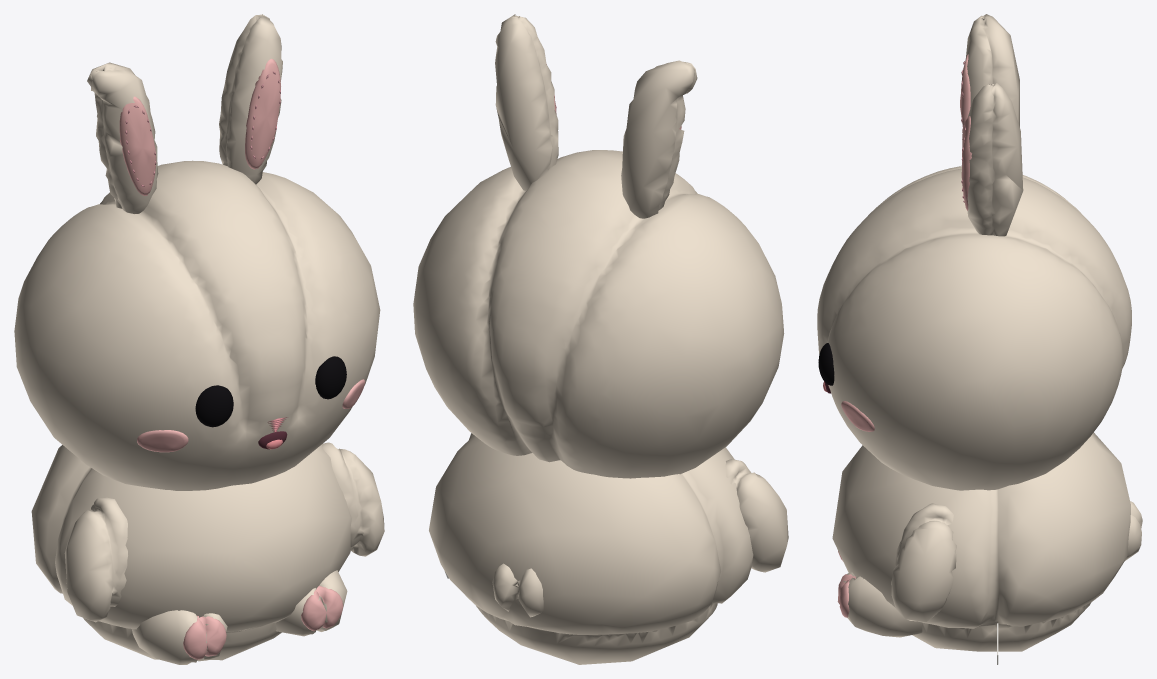
The model's file is bunny.glb.
The picture shows the model from 3 angles, left to right: view 1: azimuth 30°, elevation 25°; view 2: azimuth 150°, elevation 25°; view 3: azimuth 270°, elevation 25°; orthographic projection. The views are drawn at different scales.
Visible parts, largest first — view 1: Head, Body, ArmR, EarL, EarR, ArmL, EarInL, LegR, EarInR, PadR, PadL, LegL (+3 smaller); view 2: Head, Body, EarL, EarR, ArmR, Tail; view 3: Head, Body, EarL, ArmL, EarR, LegL, EarInL, Tail, EyeL, CheekL, EarInR.
Boxes of the visible parts, box(x1,y1,x2,y2) form: Head: box(14, 160, 380, 490); Body: box(31, 445, 351, 660); ArmR: box(64, 497, 127, 622); EarL: box(219, 14, 282, 184); EarR: box(87, 62, 158, 213); ArmL: box(321, 442, 384, 556); EarInL: box(245, 58, 280, 169); LegR: box(132, 610, 227, 664); EarInR: box(119, 96, 156, 195); PadR: box(183, 616, 226, 659); PadL: box(301, 585, 343, 631); LegL: box(276, 570, 347, 636); Head: box(413, 150, 784, 478); Body: box(429, 435, 753, 664); EarL: box(495, 14, 558, 190); EarR: box(621, 60, 697, 218); ArmR: box(725, 459, 788, 572); Tail: box(492, 563, 543, 617); Head: box(817, 166, 1131, 490); Body: box(832, 432, 1130, 651); EarL: box(967, 83, 1023, 236); ArmL: box(891, 503, 956, 621); EarR: box(965, 14, 1019, 127); LegL: box(843, 572, 922, 637); EarInL: box(961, 116, 971, 210); Tail: box(1125, 501, 1142, 560); EyeL: box(818, 343, 834, 385); CheekL: box(841, 401, 874, 431); EarInR: box(960, 54, 970, 125).
Size of the model in its own units: 1.2 by 2.16 by 1.07.
